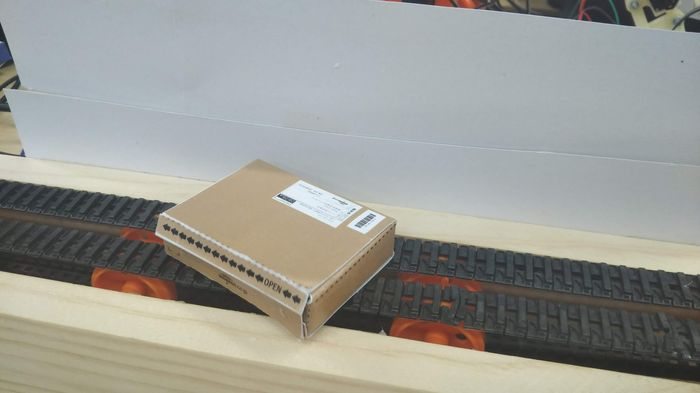box2: (151, 156, 399, 340)
